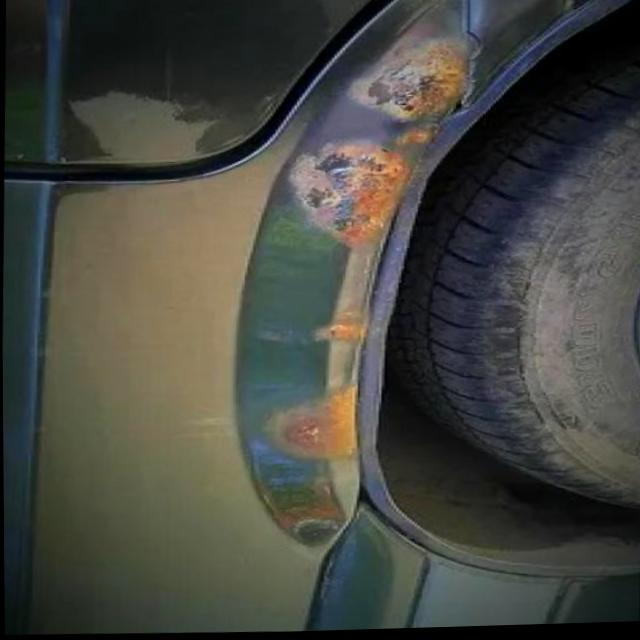Rust: (287, 138, 412, 255), (343, 37, 469, 125), (263, 383, 358, 461), (267, 472, 347, 543), (311, 301, 371, 347), (390, 127, 431, 146)
